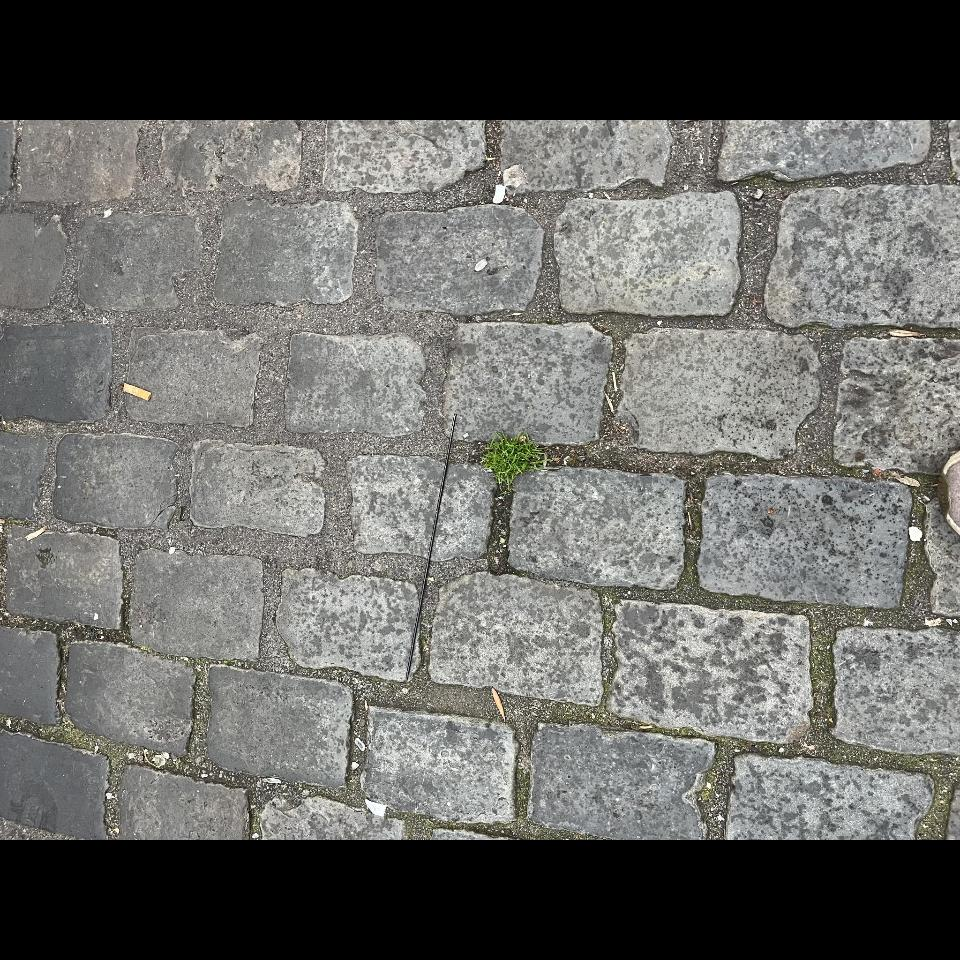weed: (482, 432, 544, 488)
